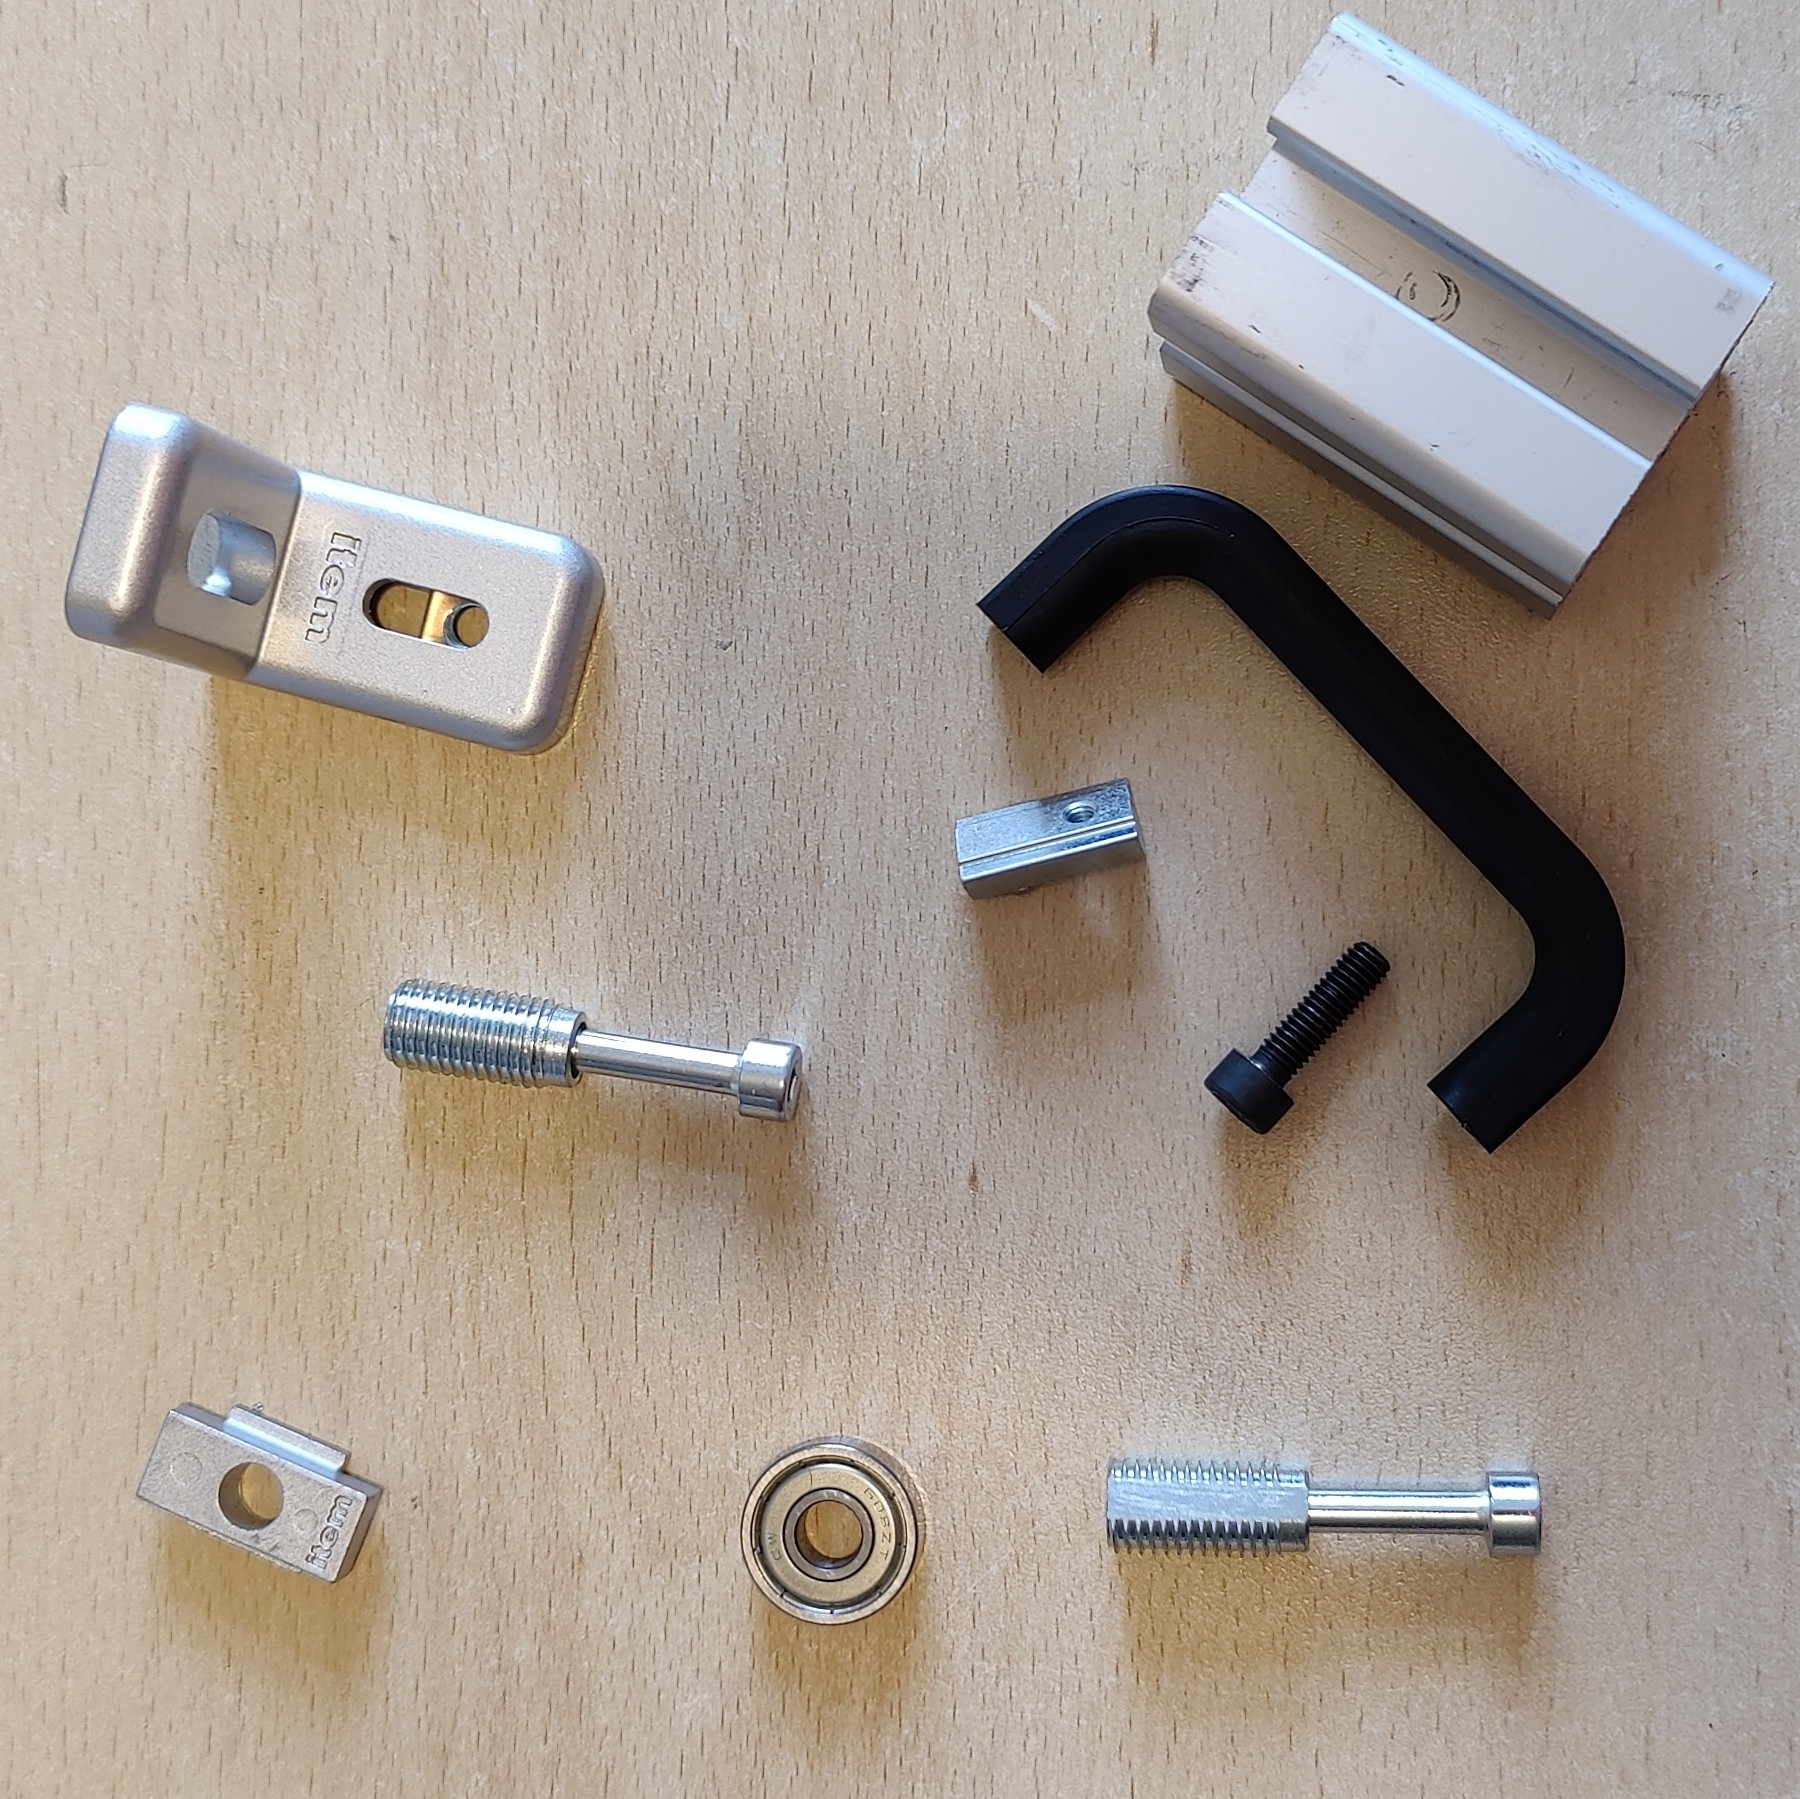Aluminium Extension: (1145, 3, 1779, 624)
Ball Bearing: (739, 1437, 927, 1631)
Multiwinkel: (63, 404, 608, 759)
Pull Handle: (970, 481, 1629, 1156)
Shoulder Socket Head Cap Screw: (379, 977, 805, 1124), (1103, 1461, 1545, 1563)
Socket Head Cap Screw: (1197, 937, 1392, 1137)
T Nut Square: (133, 1399, 385, 1588)
T Spring Nut: (950, 773, 1153, 903)
